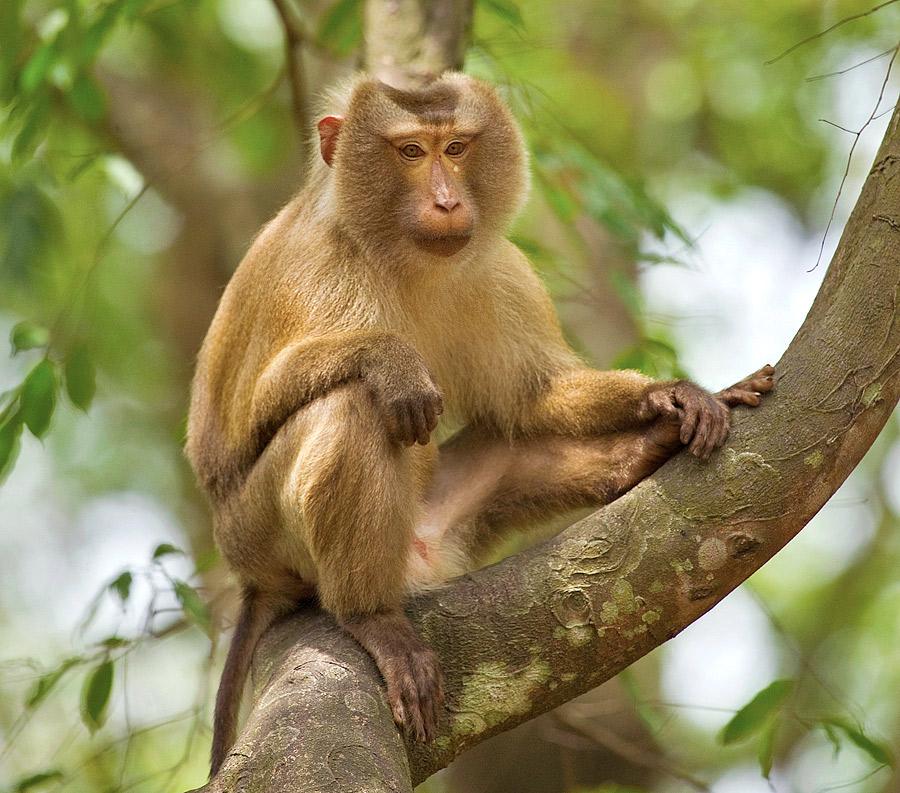monkey: (176, 59, 783, 793)
